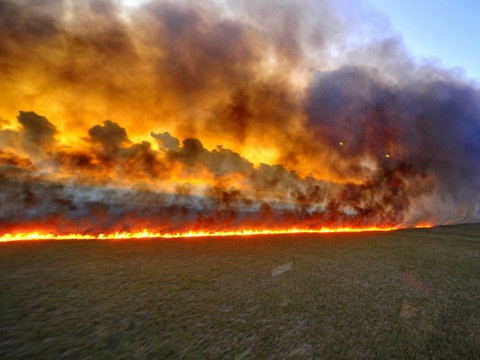fire: (2, 212, 433, 241)
